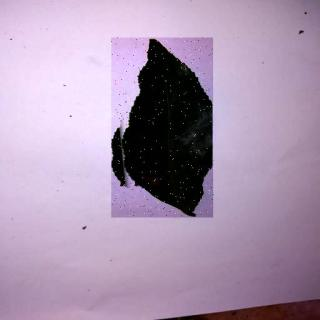Anthracnose: (113, 39, 215, 219)
